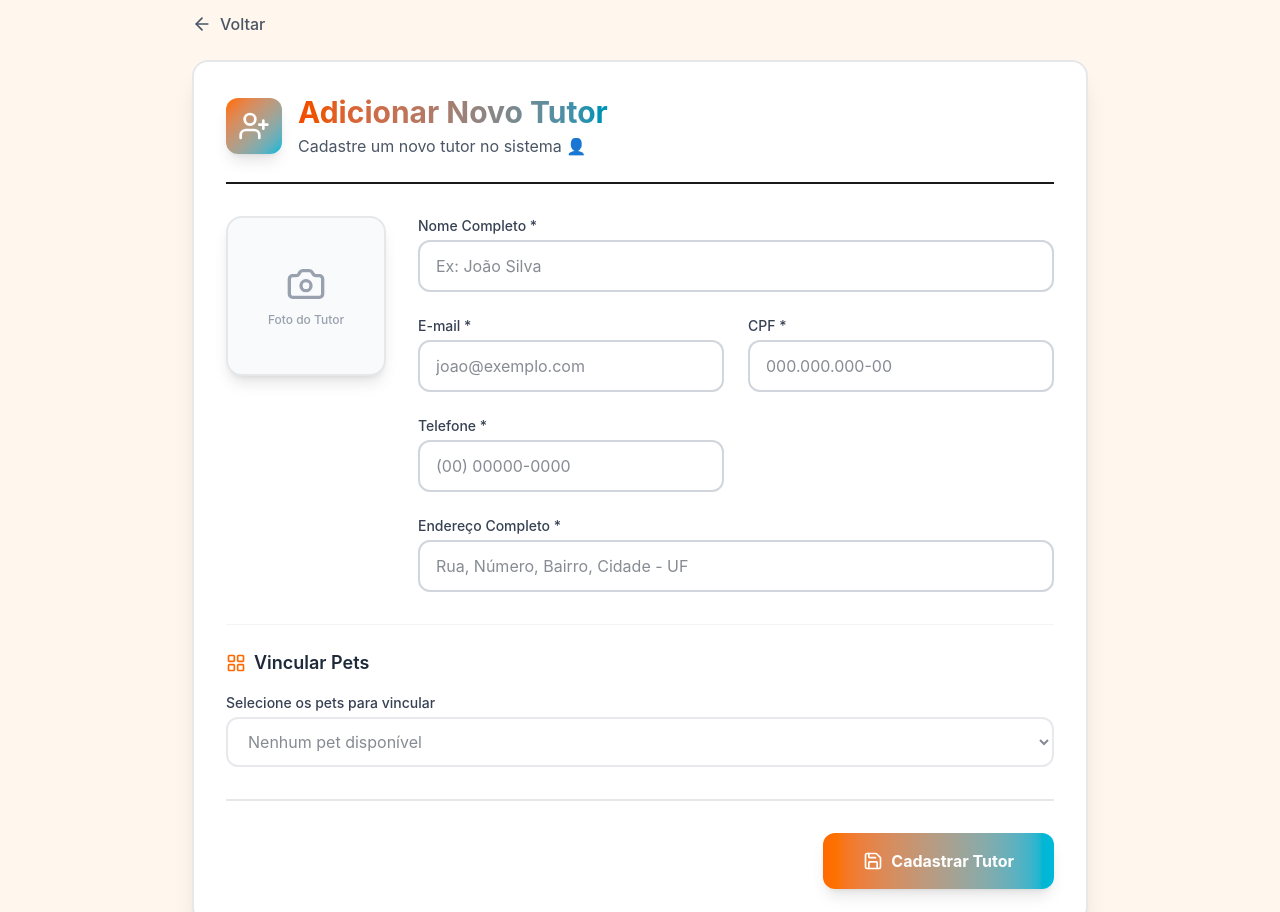
Test: TutorAdd › deve formatar CPF e Telefone enquanto o usuário digita
Type "12345678901" into the field labelled "CPF *". click: (901, 366)
box: [748,340,1054,392]
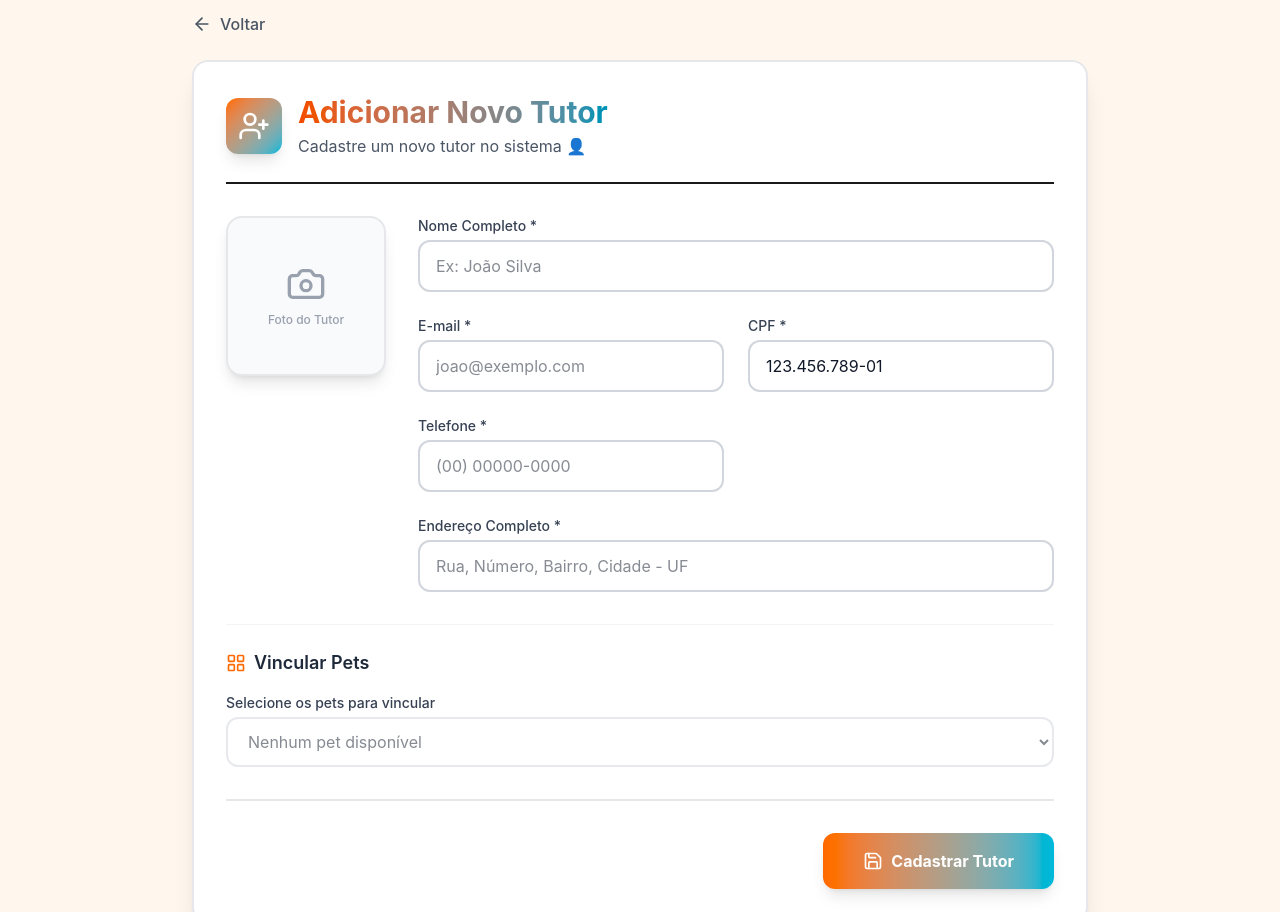
expect the field labelled "CPF *" holds "123.456.789-01": met, box [748,340,1054,392]
Type "11988888888" into the field labelled "Telefone *". click: (571, 466)
box: [418,440,724,492]
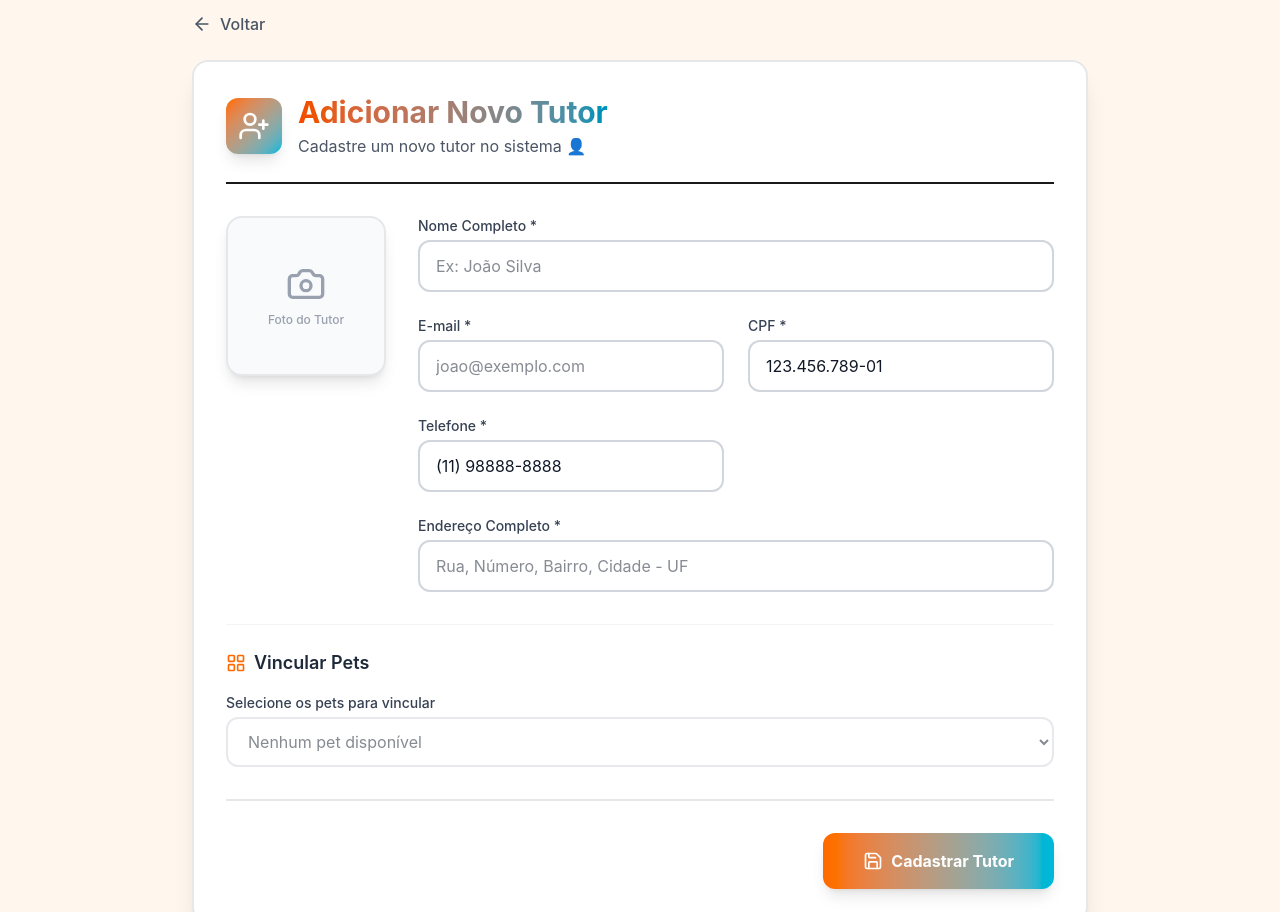
expect the field labelled "Telefone *" holds "(11) 98888-8888": met, box [418,440,724,492]
